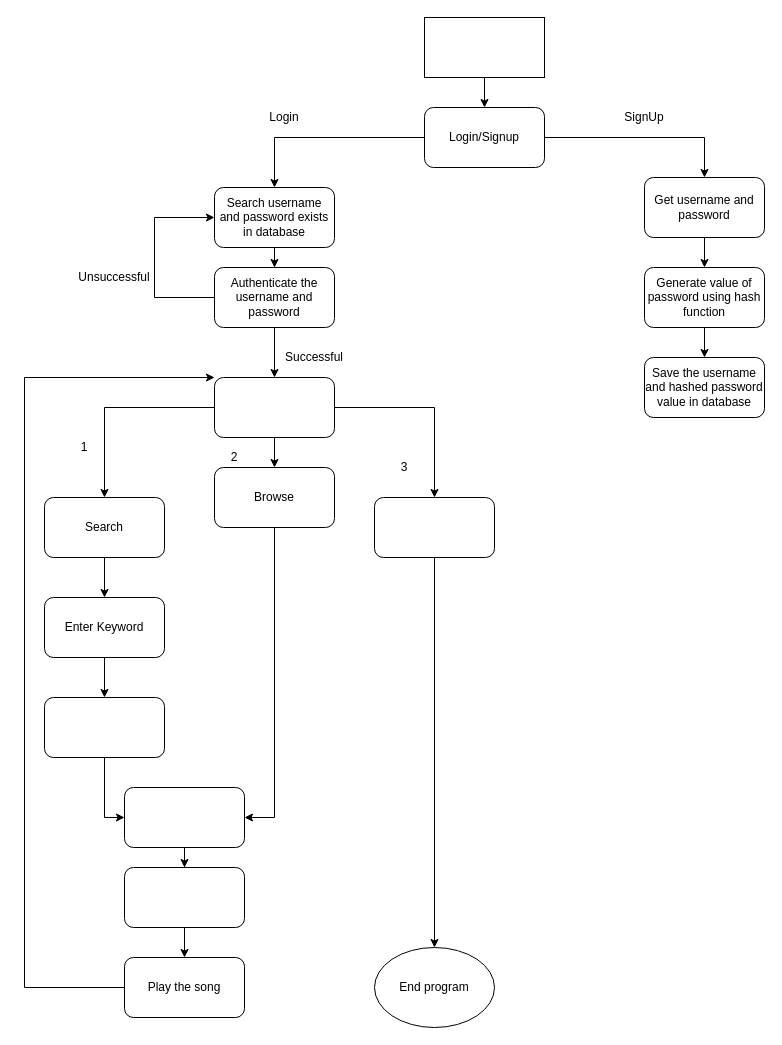
The diagram is 782 pixels wide and 1045 high, and some of its shapes have lost their labels. The box of each missing label's shape, as (x1, y1, x2, y2) in pixels:
Display List: (124, 786, 244, 848)
Enter the desired song name: (124, 866, 244, 928)
Exit: (374, 496, 494, 558)
Find search matches: (44, 696, 164, 758)
Open Menu Screen: (214, 376, 334, 438)
User: (424, 16, 544, 78)
